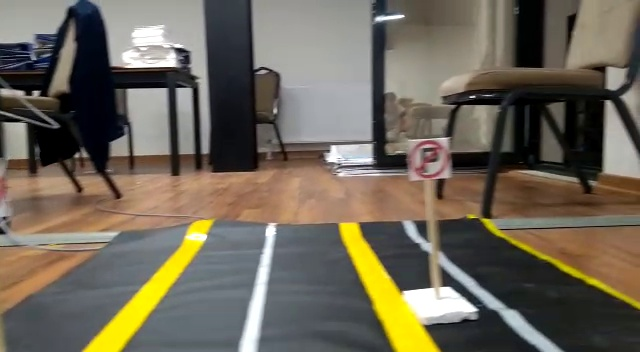park_yapilmaz: (407, 138, 452, 180)
